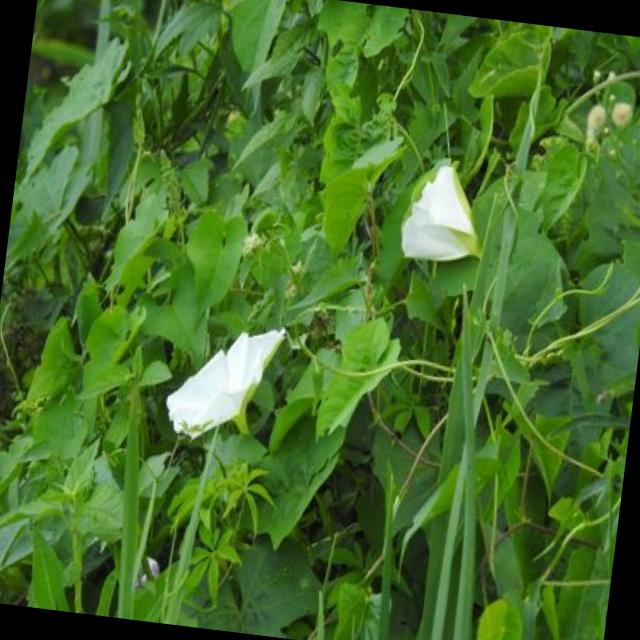ipomoea: (156, 310, 290, 456), (391, 154, 494, 277)
